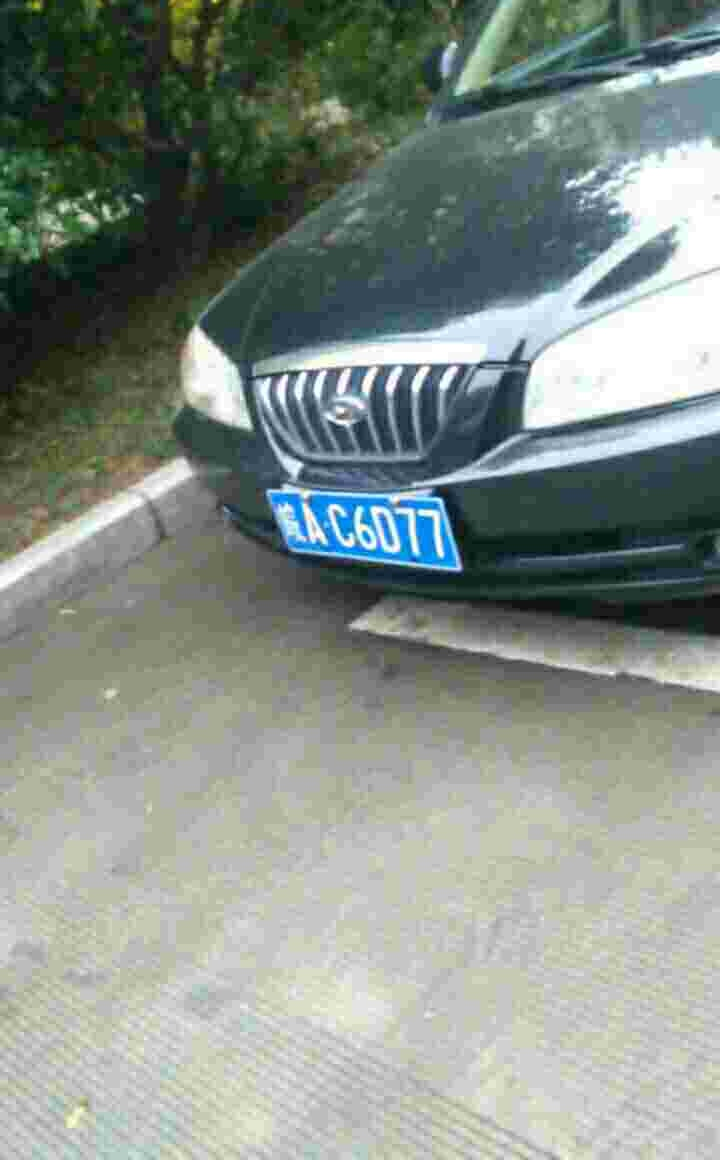car: (249, 483, 471, 570)
